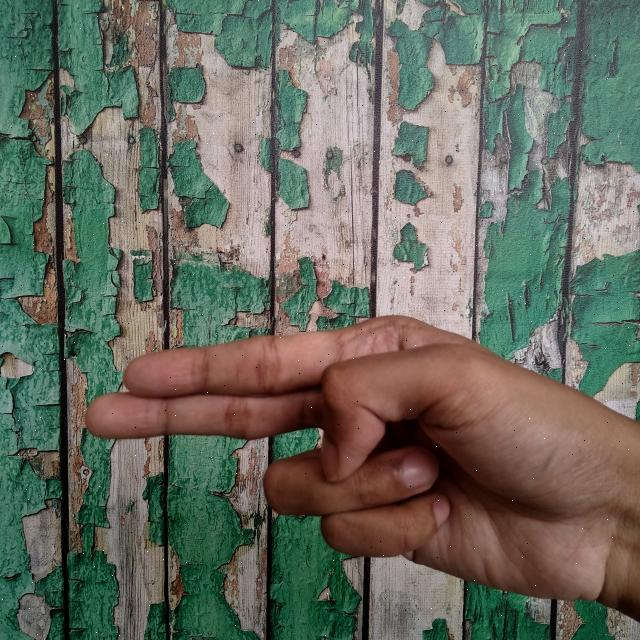H: (73, 307, 640, 628)
